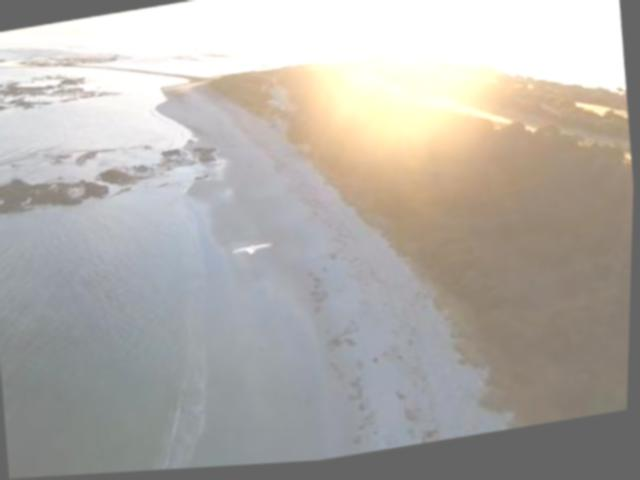uav: (228, 238, 277, 269)
